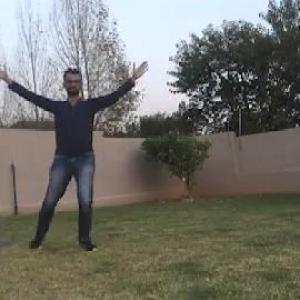takeoff: (1, 58, 156, 253)
